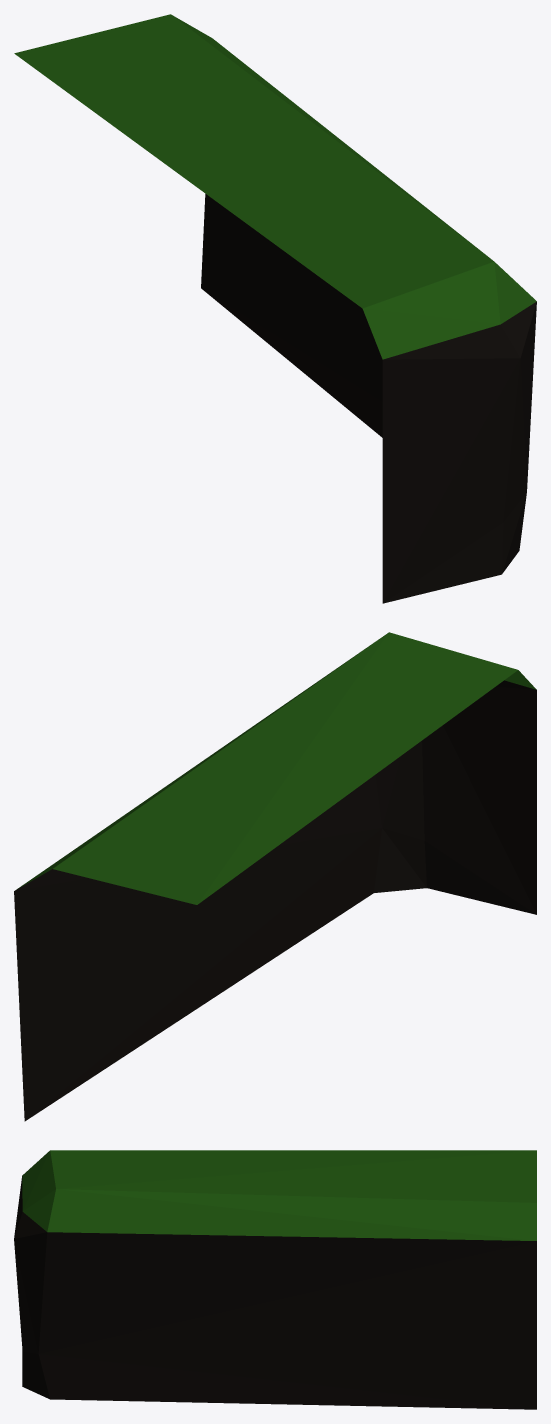
The model's file is 2D_Ground_Top_EndR.fbx.
3 views of the same model, one above another, from view 1: azimuth 30°, elevation 25°; view 2: azimuth 150°, elevation 25°; view 3: azimuth 270°, elevation 25° (orthographic). The views are drawn at different scales.
Parts seen in each view (by area): view 1: 2D_Ground_Top_EndR; view 2: 2D_Ground_Top_EndR; view 3: 2D_Ground_Top_EndR.
Part boxes in pixels (x1,y1,x2,y2): 2D_Ground_Top_EndR: (14, 14, 536, 603); 2D_Ground_Top_EndR: (14, 632, 536, 1121); 2D_Ground_Top_EndR: (14, 1150, 536, 1409).
Bounding box in the file's own units: 270 × 378 × 881.
